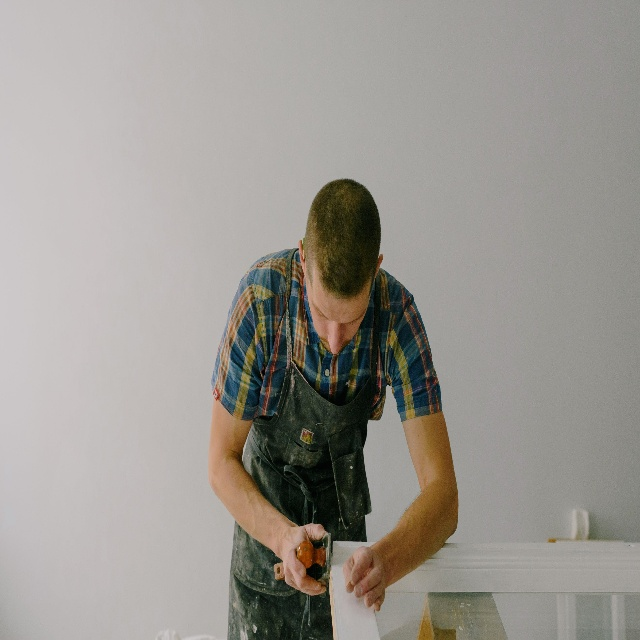Sin_guantes: (279, 521, 331, 598), (342, 543, 386, 614)
